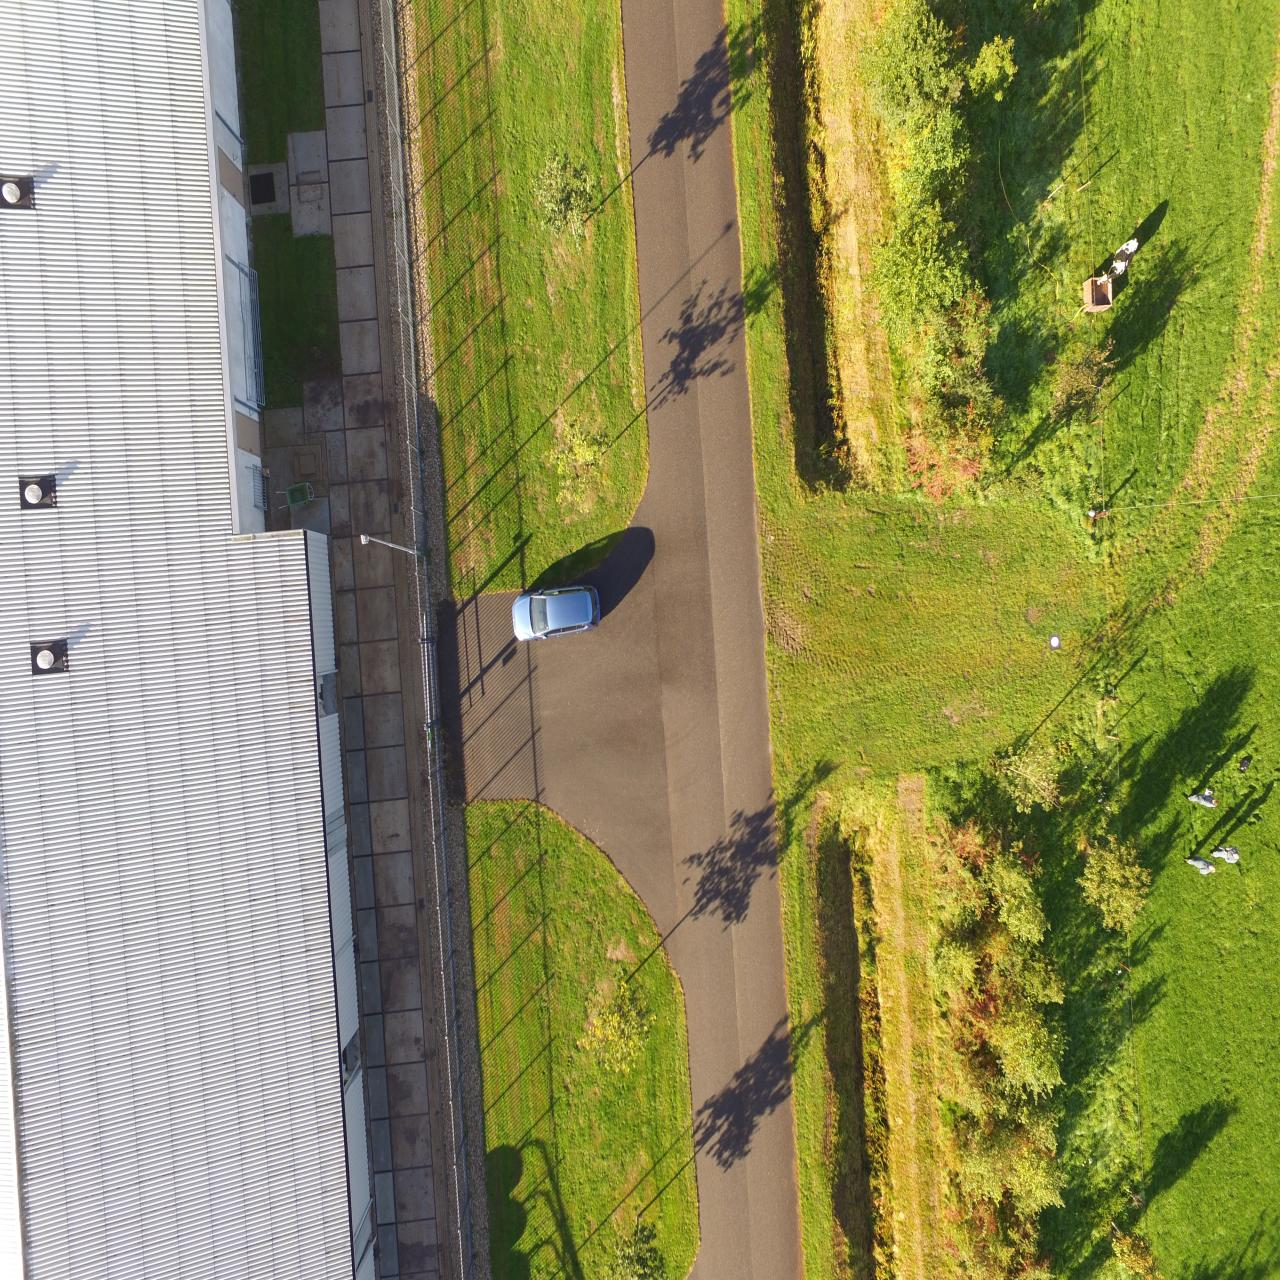cow: (1096, 237, 1141, 287)
